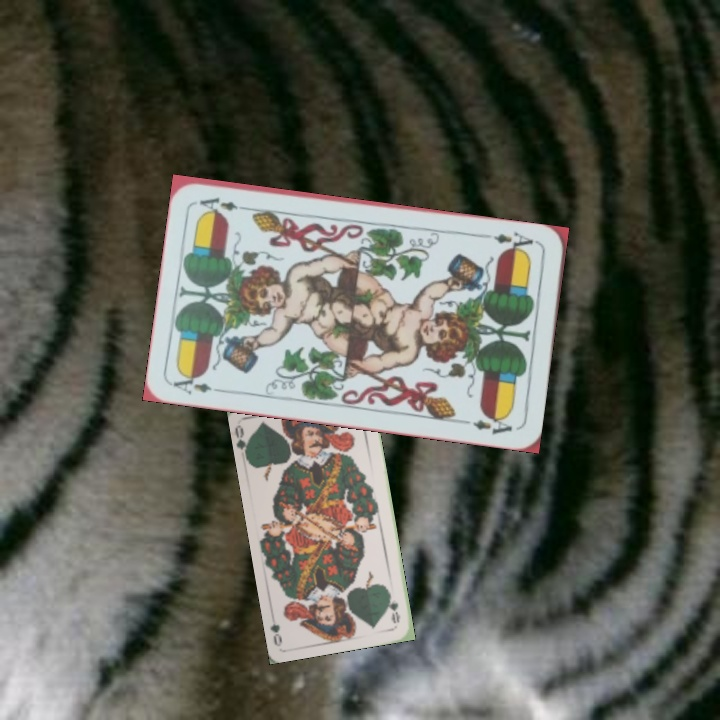EA: (169, 369, 228, 397), (490, 228, 541, 256)
GO: (232, 421, 254, 461), (383, 587, 403, 626)
